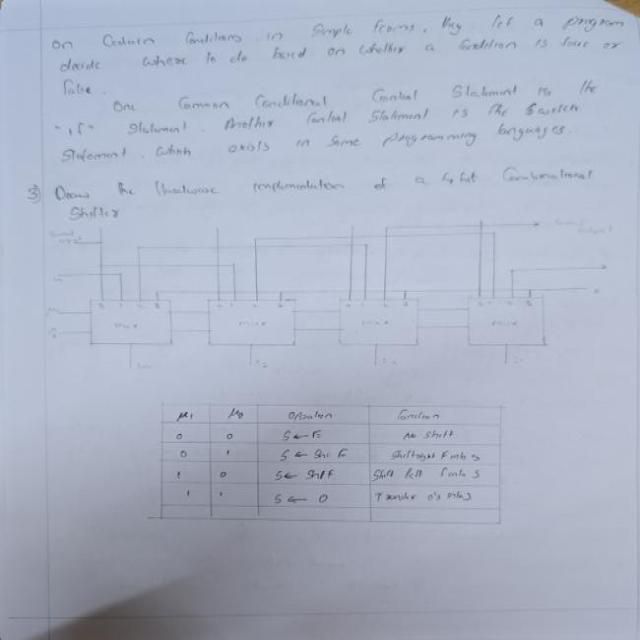Figure Detection - v3 Dataset Version2: (42, 212, 632, 381)
